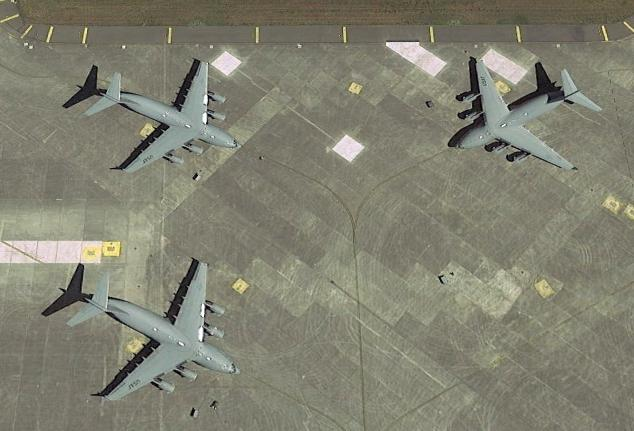C-17: (71, 252, 249, 409), (450, 55, 606, 179), (90, 55, 237, 183)
